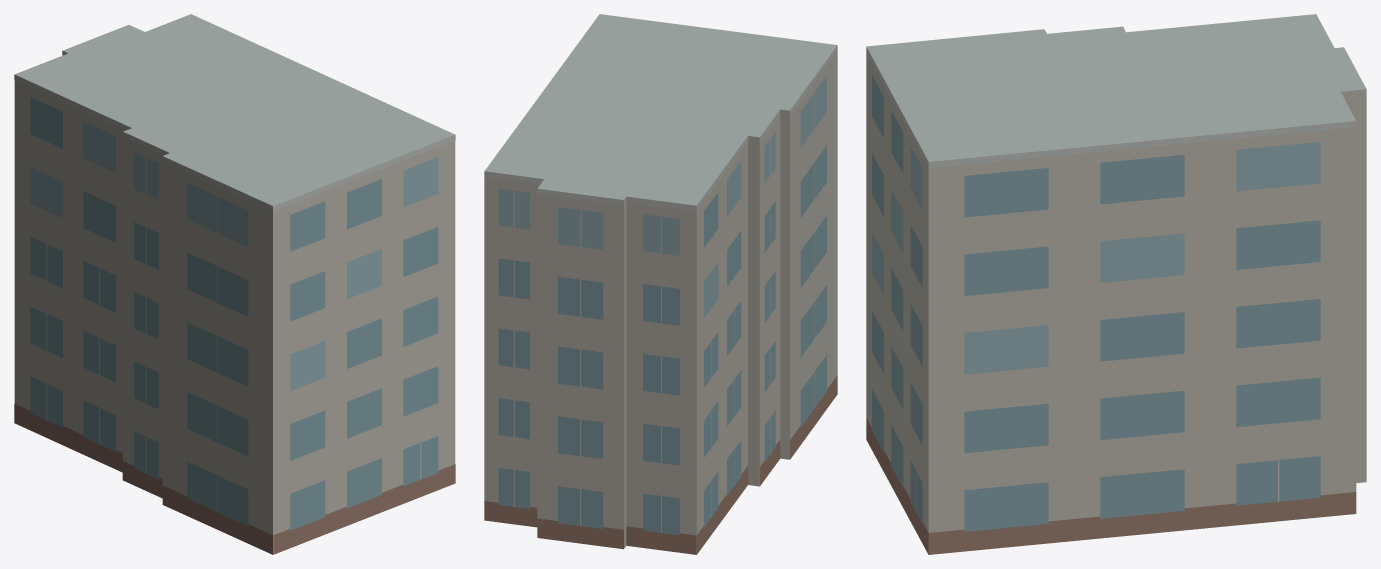
The model's file is survey-upis-32621017.glb.
3 renders of one model, left to right at view 1: azimuth 30°, elevation 25°; view 2: azimuth 150°, elevation 25°; view 3: azimuth 270°, elevation 25°, orthographic. The views are drawn at different scales.
Parts seen in each view (by area): view 1: survey-upis-32621017.tmp; view 2: survey-upis-32621017.tmp; view 3: survey-upis-32621017.tmp.
Part boxes in pixels (left/top/right/bottom): survey-upis-32621017.tmp: left=14, top=14, right=455, bottom=554; survey-upis-32621017.tmp: left=484, top=14, right=837, bottom=554; survey-upis-32621017.tmp: left=866, top=14, right=1366, bottom=554.
Size of the model in its own units: 12.32 by 15.25 by 17.61.
